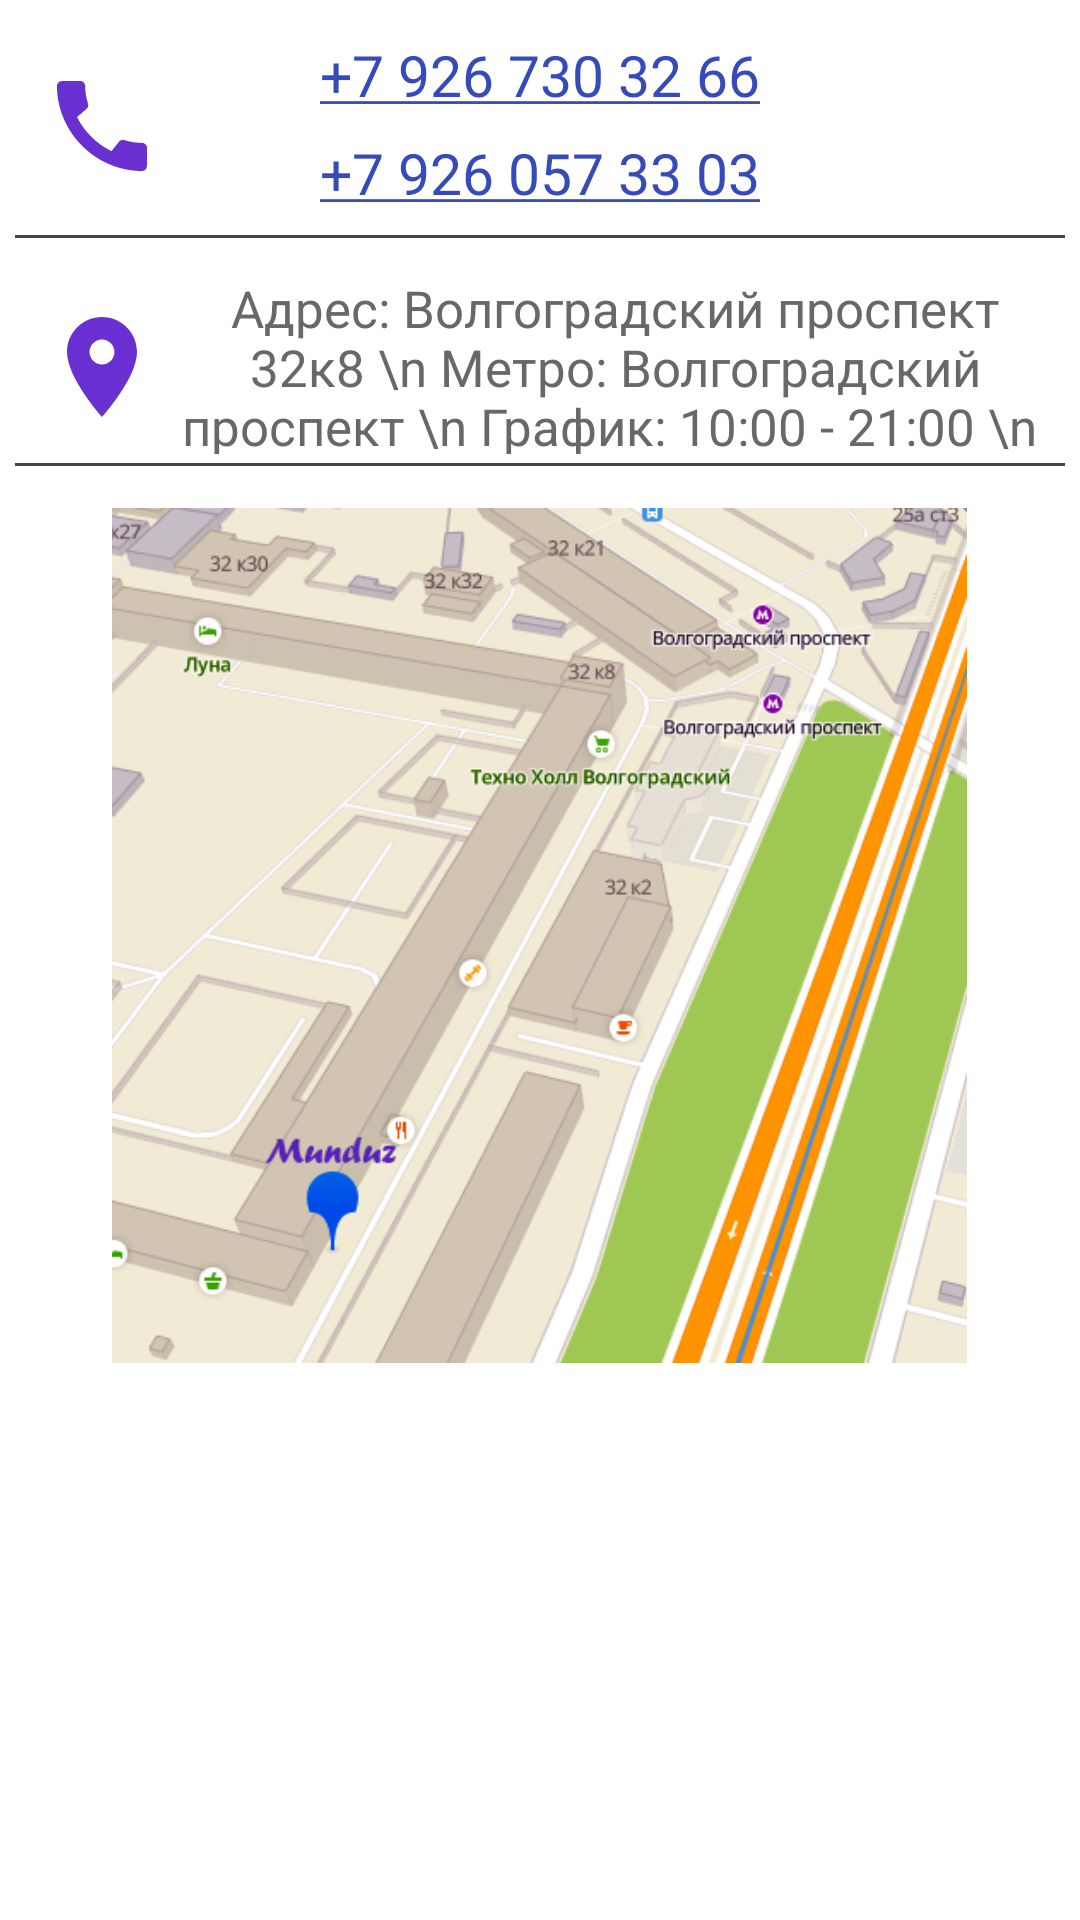

Icons on this 1080 × 1920 Android screen, each with the point to tap as point (x, y):
call: point (102, 126)
location on: point (102, 367)
